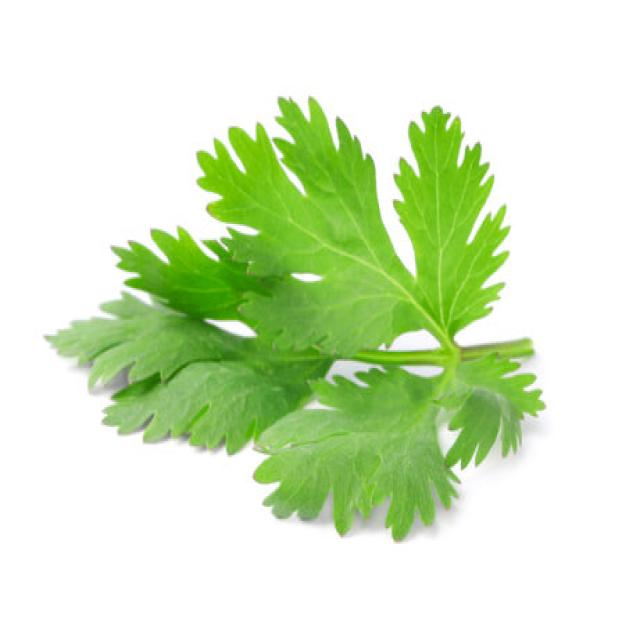Coriander Leaves: (43, 92, 546, 540)
